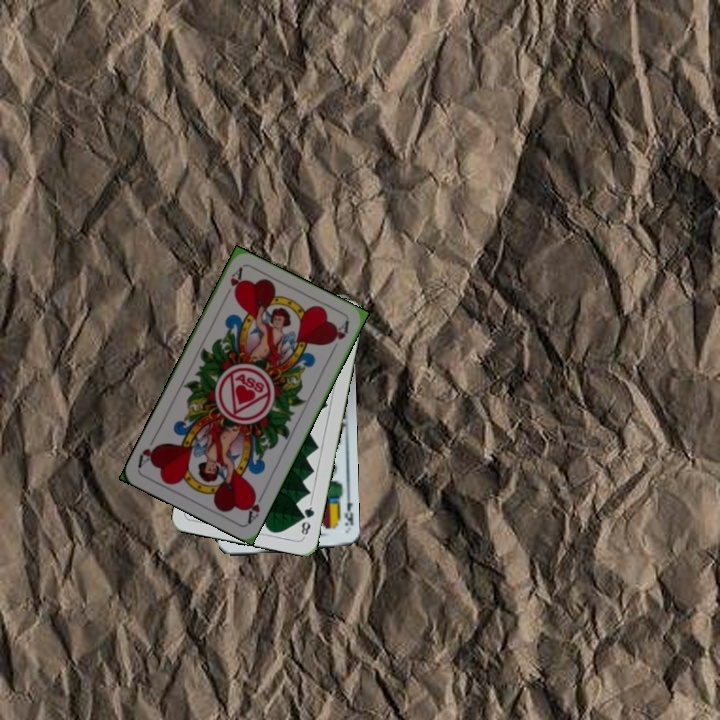EK: (340, 497, 355, 536)
G8: (297, 499, 317, 539)
HA: (220, 264, 245, 302), (243, 487, 267, 526)
